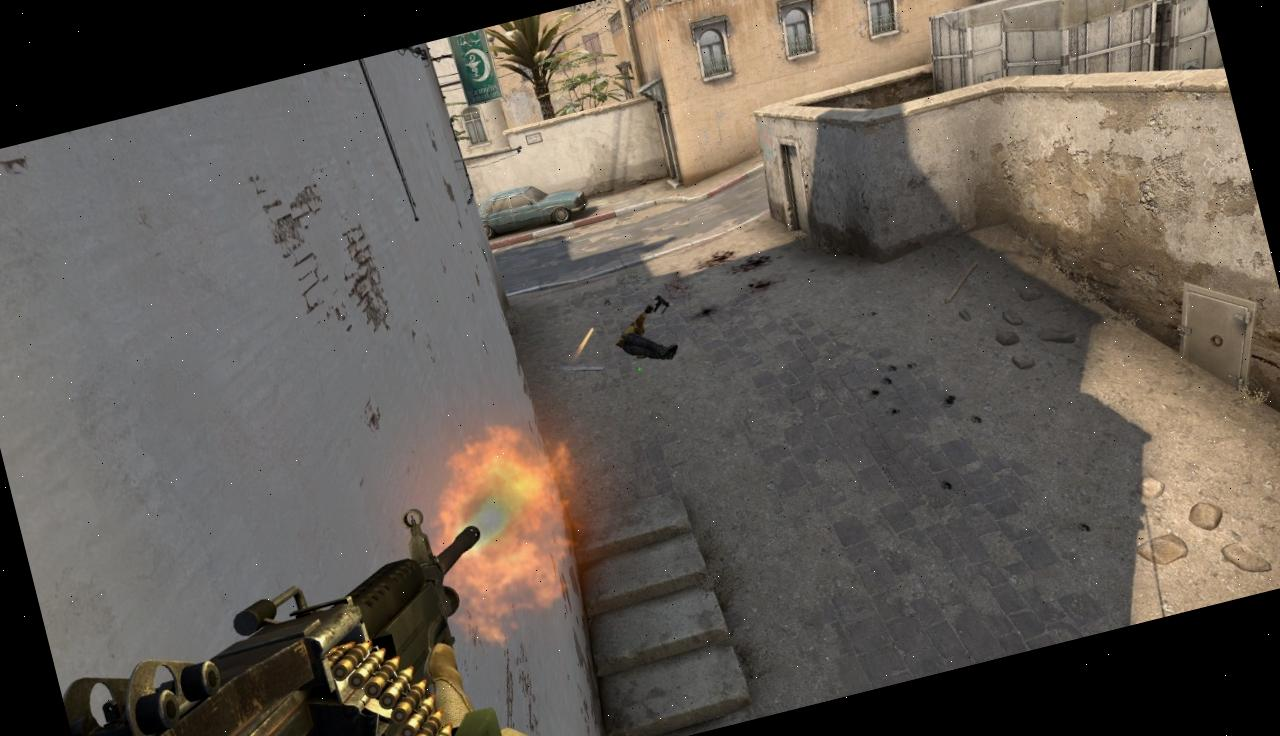rifle: (37, 488, 550, 736)
